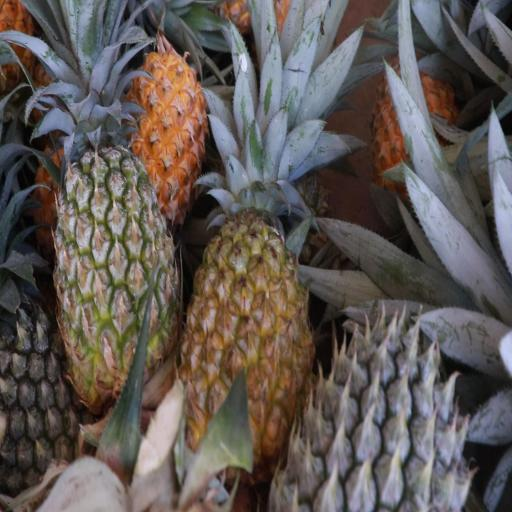------------------------------: (54, 142, 178, 396)
Pineapple - v8 v1: (182, 175, 309, 466), (68, 29, 197, 184), (372, 62, 453, 171)
